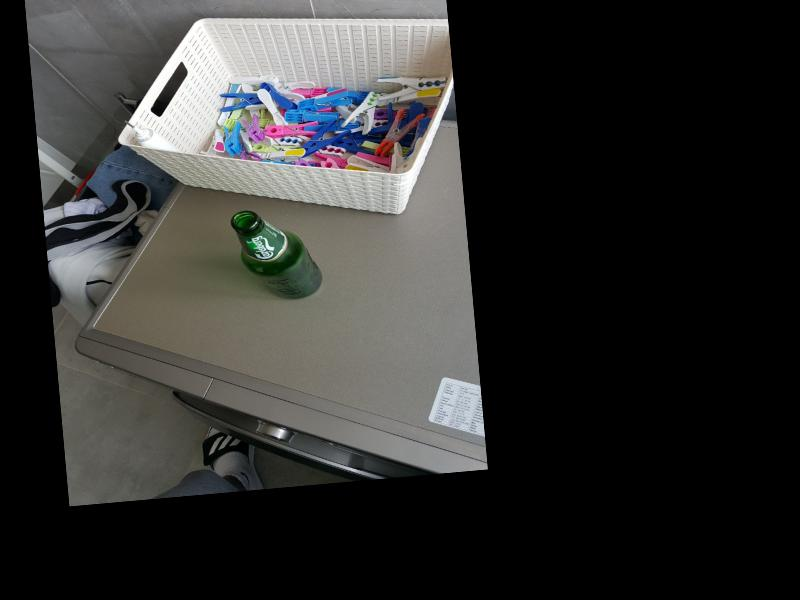Beer: (229, 206, 321, 305)
